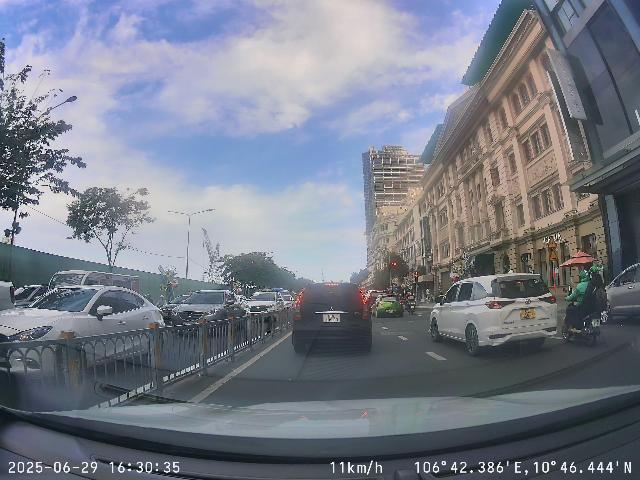221-duong-go-ghe: (549, 250, 559, 261)
224-duong-nguoi-di-bo-cat-ngang: (548, 237, 557, 248)
